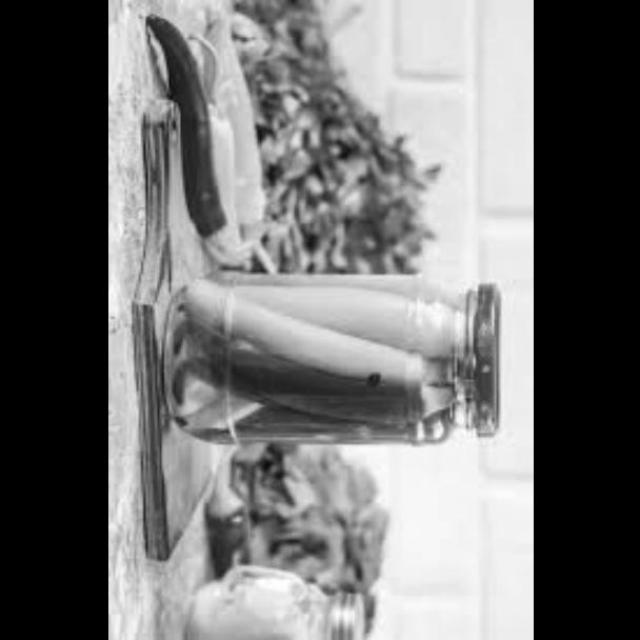hot pepper: (168, 268, 480, 460), (179, 9, 272, 269), (148, 7, 235, 258), (193, 445, 262, 597)
